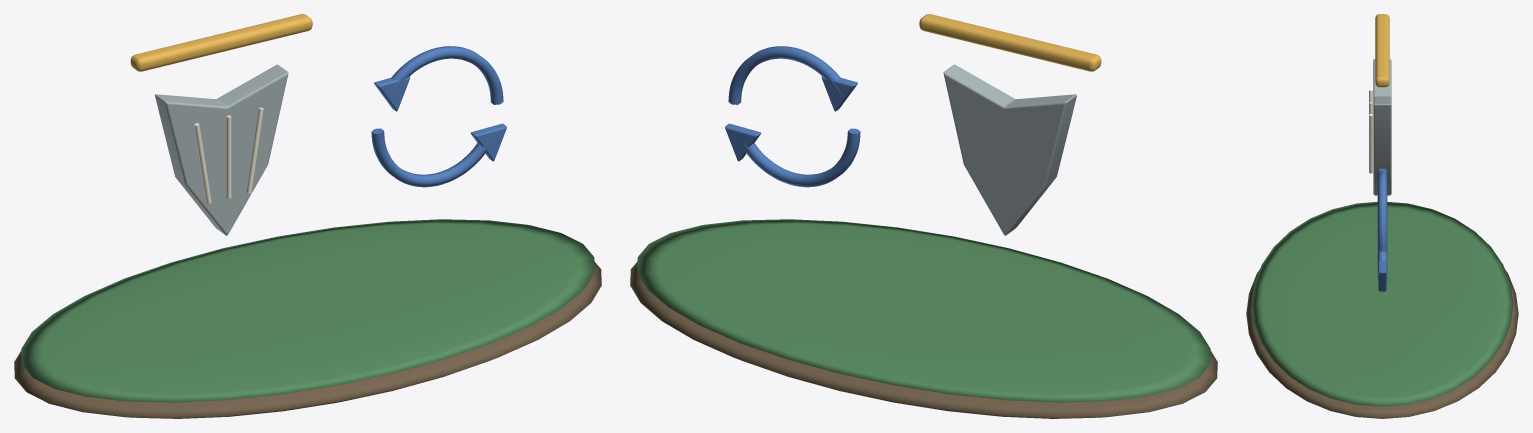
Rendered from complete-first-again-beard.glb.
3 renders of one model, left to right at view 1: azimuth 30°, elevation 25°; view 2: azimuth 150°, elevation 25°; view 3: azimuth 270°, elevation 25°, orthographic. The views are drawn at different scales.
Parts seen in each view (by area): view 1: complete-first-again-beard_surface_01, complete-first-again-beard_surface_03, complete-first-again-beard_surface_00, complete-first-again-beard_surface_05, complete-first-again-beard_surface_02, complete-first-again-beard_surface_04; view 2: complete-first-again-beard_surface_01, complete-first-again-beard_surface_03, complete-first-again-beard_surface_00, complete-first-again-beard_surface_05, complete-first-again-beard_surface_02; view 3: complete-first-again-beard_surface_01, complete-first-again-beard_surface_00, complete-first-again-beard_surface_03, complete-first-again-beard_surface_05, complete-first-again-beard_surface_02, complete-first-again-beard_surface_04.
Boxes of the visible parts, x1=… form: complete-first-again-beard_surface_01: x1=21, y1=219, x2=594, y2=402; complete-first-again-beard_surface_03: x1=155, y1=64, x2=288, y2=235; complete-first-again-beard_surface_00: x1=14, y1=262, x2=601, y2=418; complete-first-again-beard_surface_05: x1=371, y1=46, x2=506, y2=187; complete-first-again-beard_surface_02: x1=130, y1=14, x2=312, y2=71; complete-first-again-beard_surface_04: x1=194, y1=107, x2=263, y2=203; complete-first-again-beard_surface_01: x1=637, y1=219, x2=1210, y2=402; complete-first-again-beard_surface_03: x1=943, y1=64, x2=1076, y2=235; complete-first-again-beard_surface_00: x1=630, y1=262, x2=1217, y2=418; complete-first-again-beard_surface_05: x1=725, y1=46, x2=860, y2=187; complete-first-again-beard_surface_02: x1=919, y1=14, x2=1101, y2=71; complete-first-again-beard_surface_01: x1=1251, y1=202, x2=1513, y2=406; complete-first-again-beard_surface_00: x1=1246, y1=269, x2=1518, y2=418; complete-first-again-beard_surface_03: x1=1373, y1=59, x2=1391, y2=195; complete-first-again-beard_surface_05: x1=1377, y1=168, x2=1387, y2=291; complete-first-again-beard_surface_02: x1=1375, y1=14, x2=1389, y2=87; complete-first-again-beard_surface_04: x1=1369, y1=90, x2=1372, y2=173.
Size of the model in its own units: 4.56 by 2.52 by 2.5.
